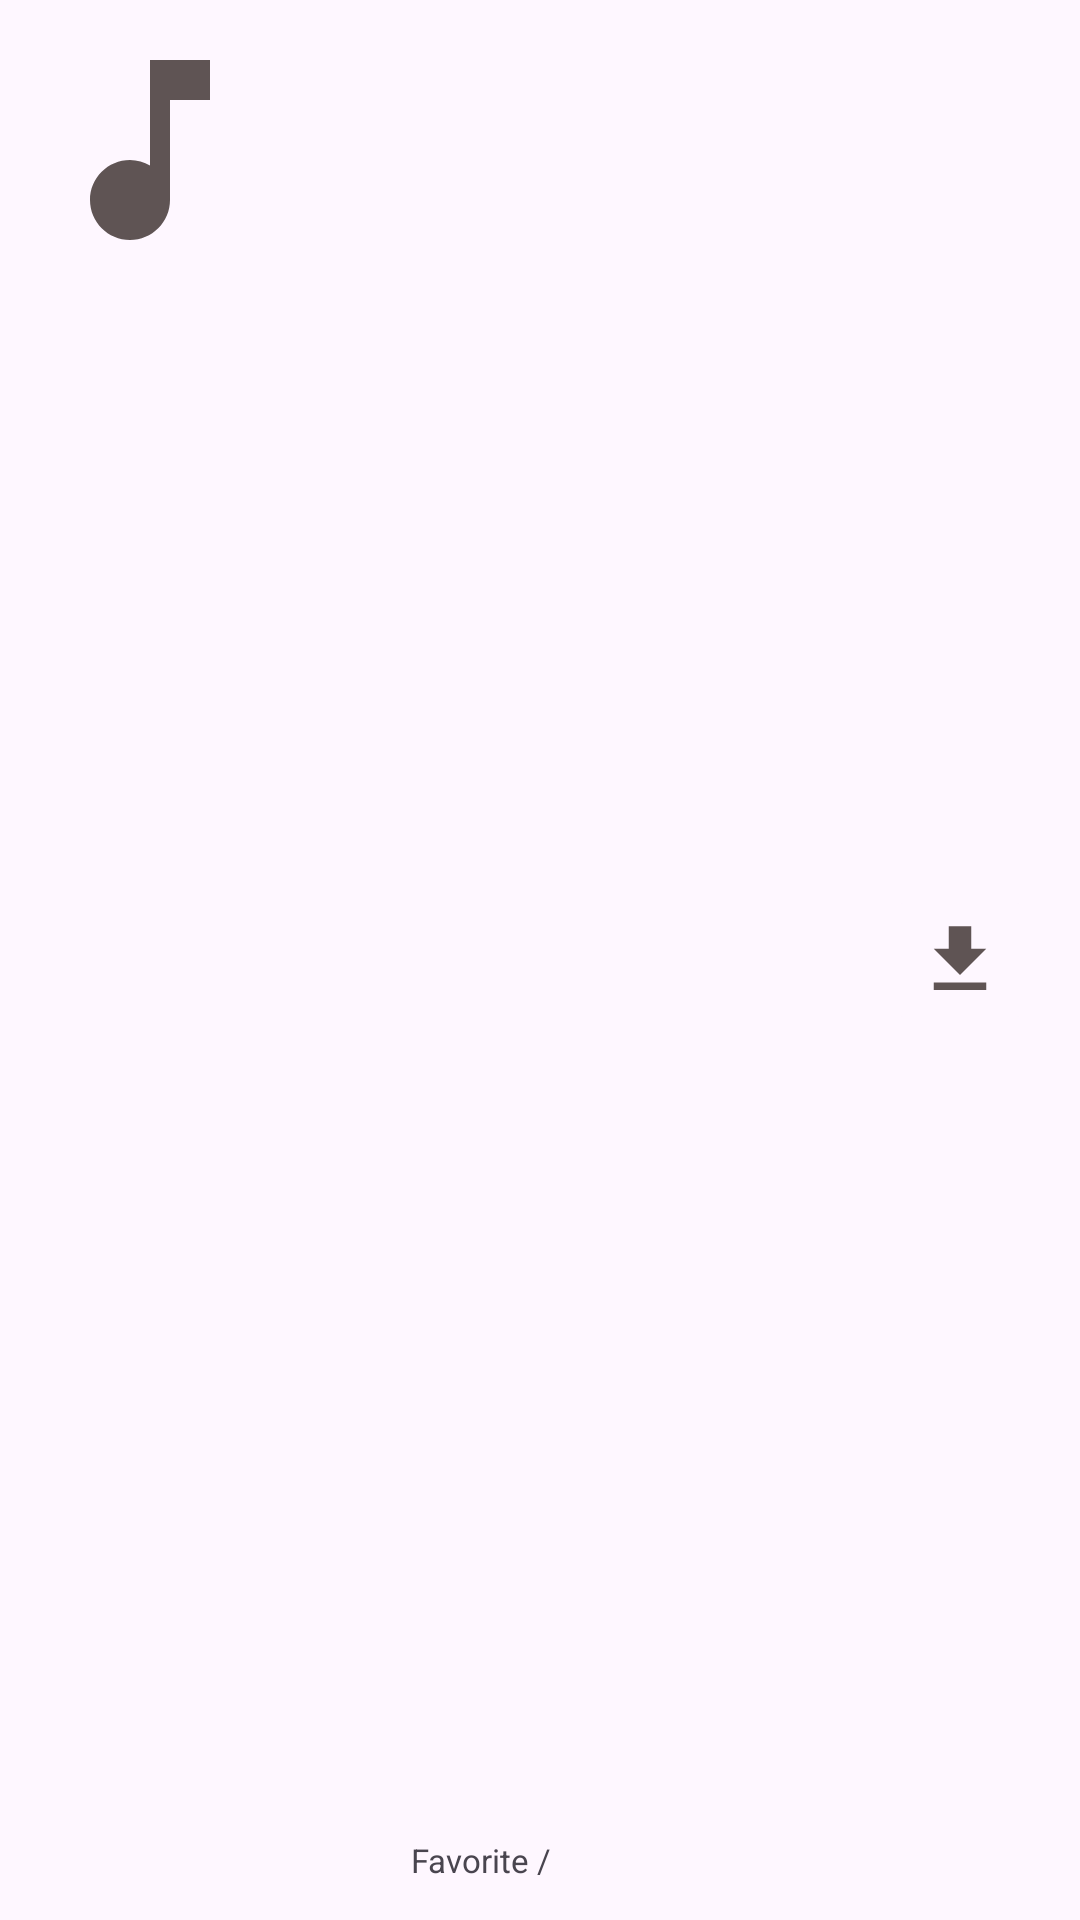

Where to tap for icons on this 1080 × 1920 app screen, as (x,y):
music note: (150,150)
